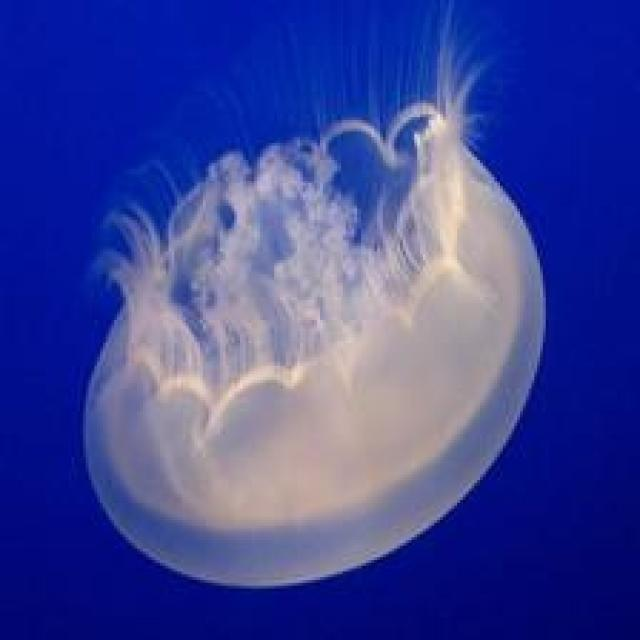Moon-jellyfish: (77, 0, 549, 589)
